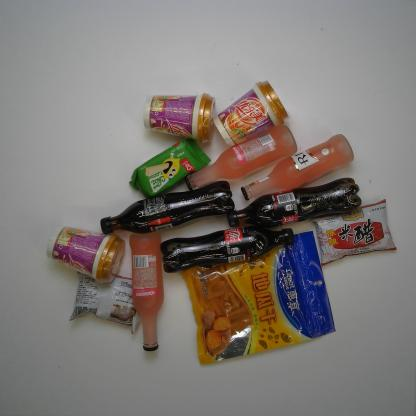Alcohol: (240, 134, 354, 202), (183, 124, 298, 190), (129, 231, 165, 352)
Dessert: (128, 136, 212, 200)
Dried Fruit: (181, 230, 337, 366)
Drink: (100, 180, 235, 235), (160, 223, 296, 274), (227, 177, 362, 228)
Instant Drink: (212, 80, 289, 147), (45, 224, 126, 284), (142, 92, 216, 144)
Seasoner: (310, 198, 398, 266), (68, 268, 142, 335)
